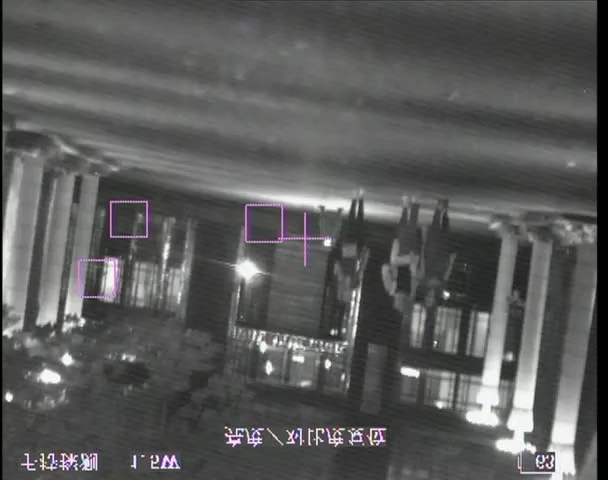my: (322, 237, 331, 246)
